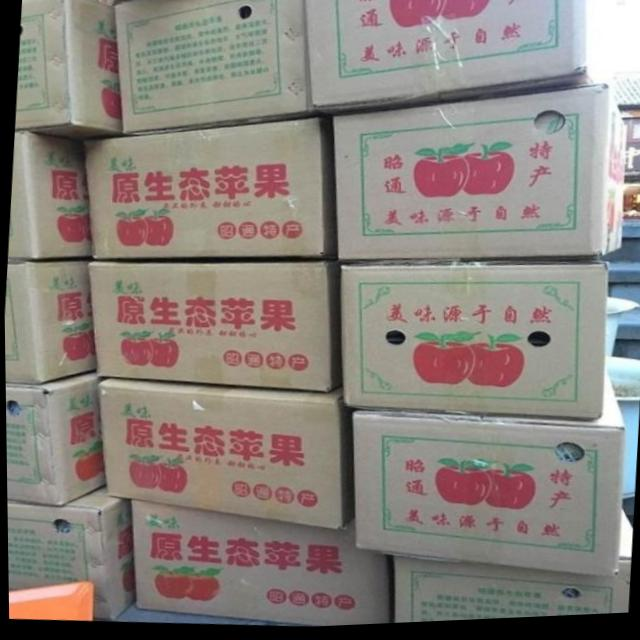box: (351, 369, 624, 583), (332, 90, 627, 263), (340, 261, 605, 425), (97, 378, 354, 533), (85, 119, 335, 261), (87, 260, 338, 395), (302, 0, 585, 119), (131, 501, 388, 629), (389, 512, 631, 627), (112, 0, 309, 136), (6, 485, 133, 621), (14, 0, 121, 143), (4, 368, 105, 507), (4, 259, 95, 384), (8, 130, 90, 260), (99, 0, 146, 7)
